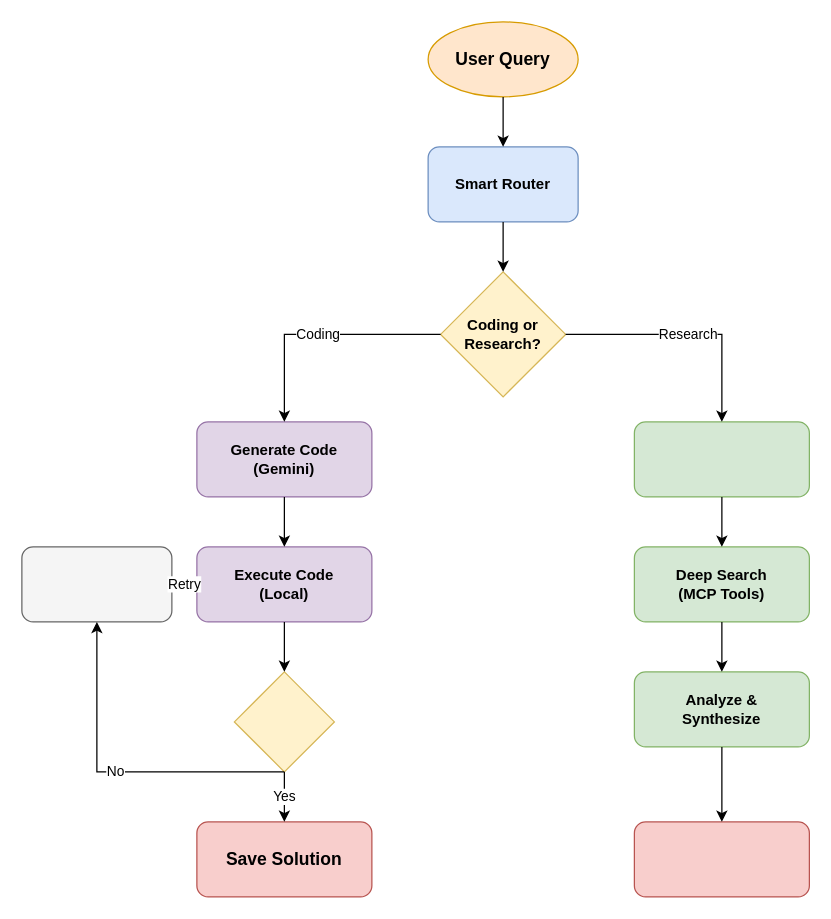
Some shapes in this 831 by 919 pixel diagram are drawn without their labels. The shapes that lost their labels are listed below. From the top down, each one's centre as x and y in pixels, then its label:
At point (721, 459): "Plan Search Queries".
At point (96, 584): "Self-Healing Loop (Debug)".
At point (283, 721): "Tests Passed?".
At point (721, 859): "Generate Report (Markdown)".
